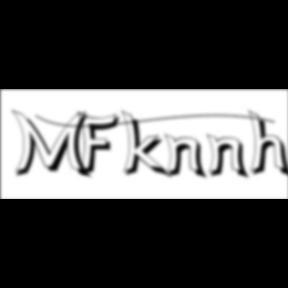F: (77, 110, 125, 178)
M: (11, 108, 95, 181)
k: (120, 108, 174, 181)
n: (164, 132, 212, 181), (207, 132, 254, 181)
